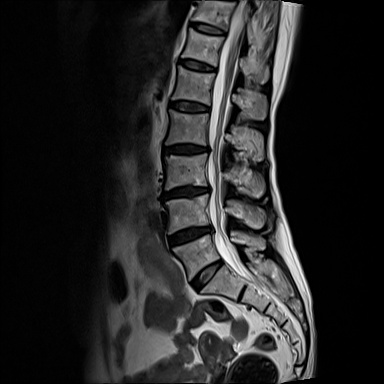L1,v2: (169, 71, 217, 98)
L1-L2,v1: (167, 92, 215, 119)
L2,v2: (165, 113, 213, 140)
L2-L3,v2: (162, 134, 210, 161)
L2-L3,v5: (162, 134, 210, 161)
L3,v2: (164, 155, 212, 182)
L3-L4,v2: (164, 176, 212, 203)
L3-L4,v5: (164, 176, 212, 203)
L4,v2: (166, 199, 214, 226)
L4-L5,v2: (167, 219, 215, 246)
L5,v2: (173, 242, 221, 269)
L5-S1,v1: (185, 260, 233, 287)
T12-L1,v1: (175, 52, 223, 79)
